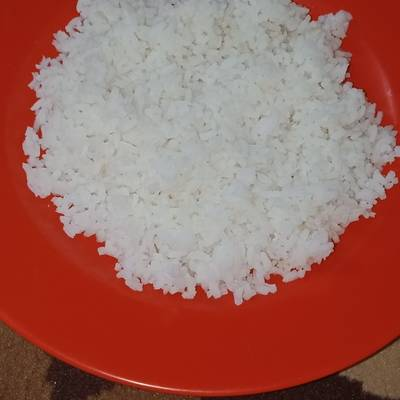Nasi Putih: (3, 2, 395, 312)
